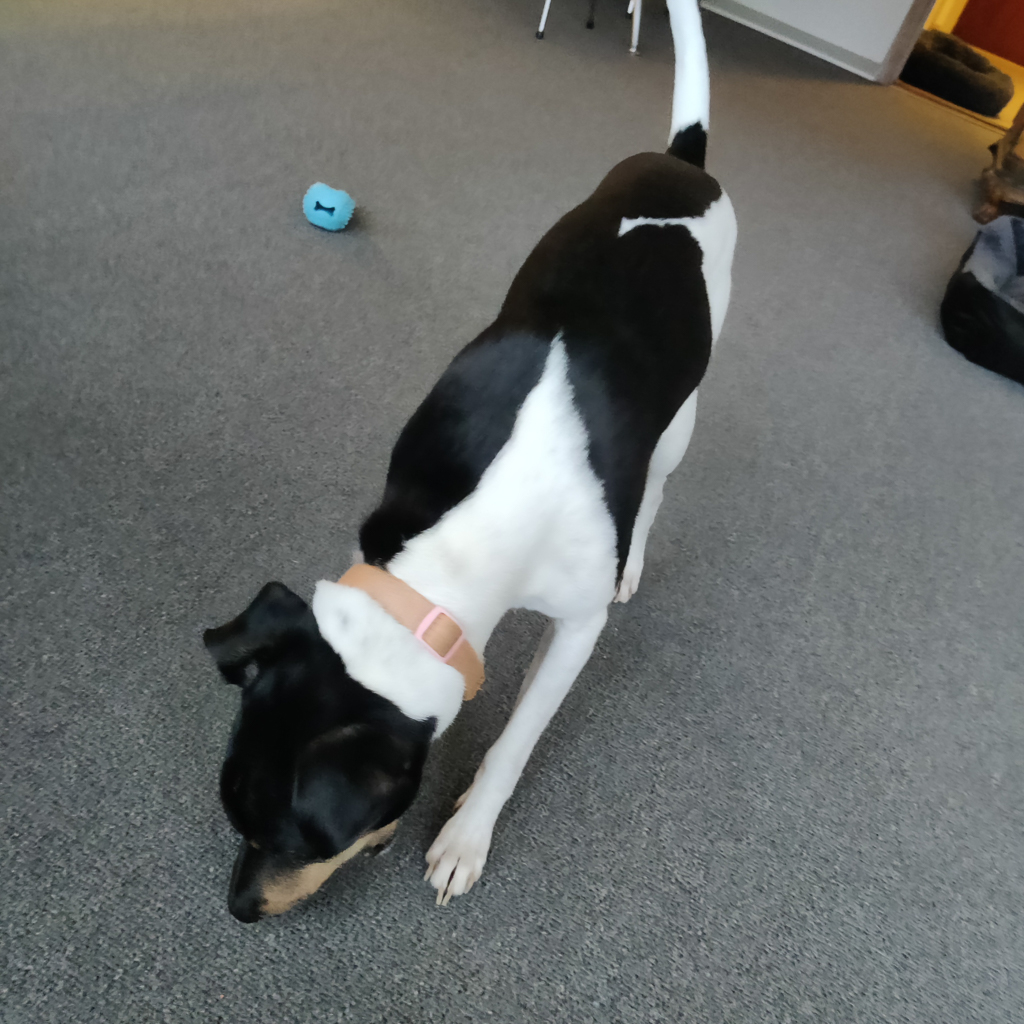Dog: (175, 0, 760, 957)
